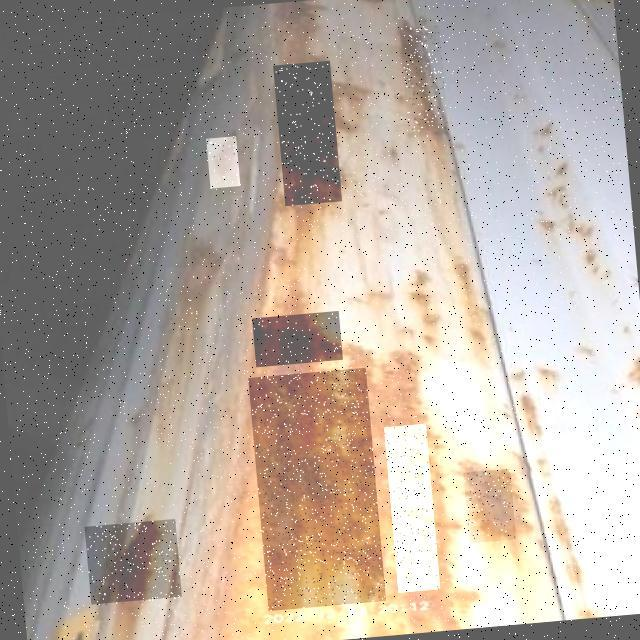Rust: (248, 368, 386, 611), (273, 61, 342, 206), (384, 423, 440, 592), (84, 519, 182, 607), (399, 25, 448, 138), (252, 311, 343, 367), (165, 264, 225, 337), (463, 468, 516, 543), (206, 136, 240, 188)
